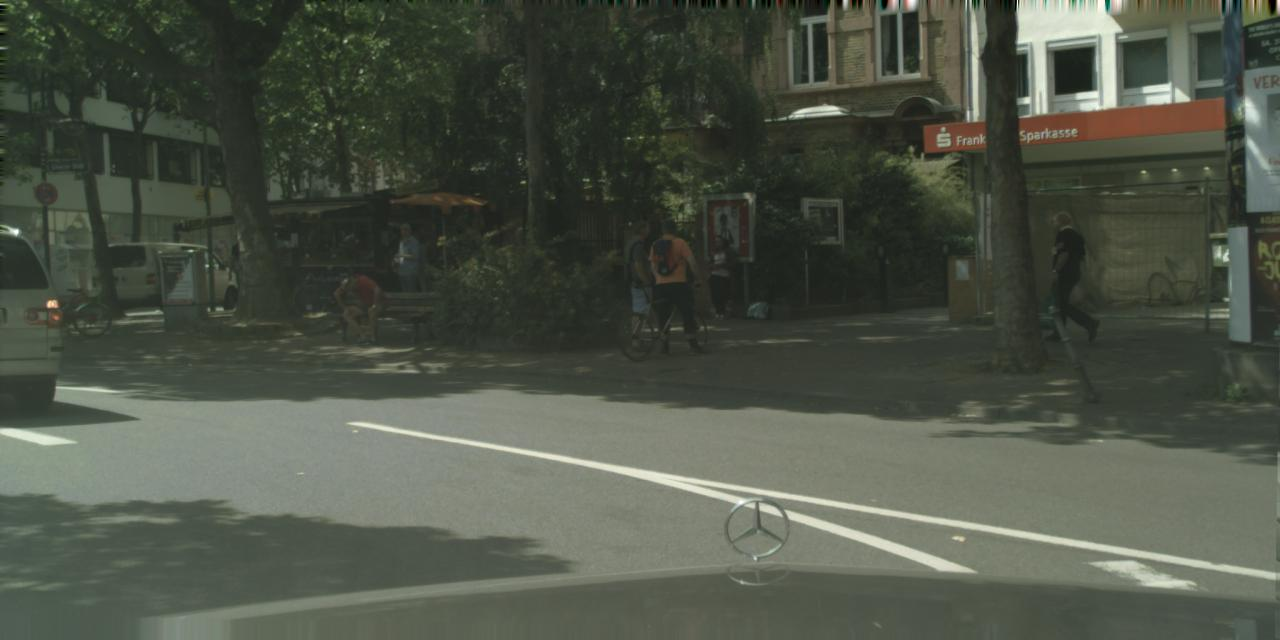ped: (644, 216, 700, 355), (1040, 211, 1094, 344), (614, 221, 666, 348), (388, 223, 428, 323), (702, 235, 736, 320), (230, 232, 262, 310)
